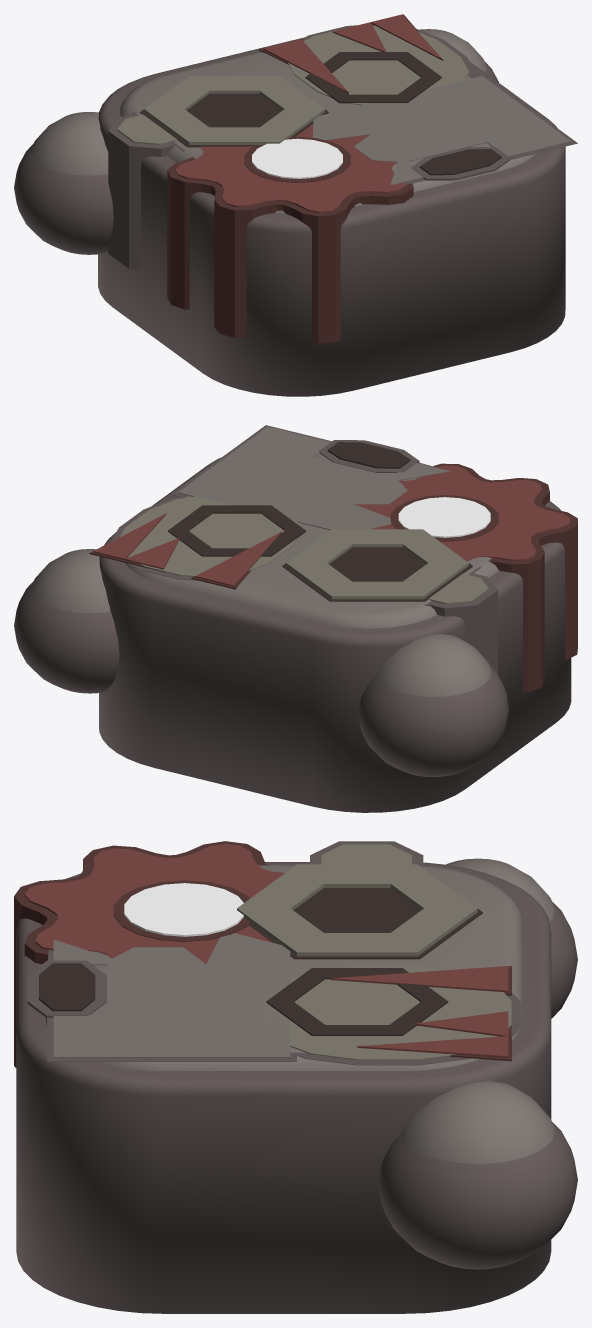
The model's file is body_engrenagem.fbx.
3 renders of one model, top to bottom at view 1: azimuth 30°, elevation 25°; view 2: azimuth 150°, elevation 25°; view 3: azimuth 270°, elevation 25°, orthographic. The views are drawn at different scales.
Parts seen in each view (by area): view 1: body_engrenagem_corpo, body_engrenagem_mao_esq, body_engrenagem_mao; view 2: body_engrenagem_corpo, body_engrenagem_mao_esq, body_engrenagem_mao; view 3: body_engrenagem_corpo, body_engrenagem_mao, body_engrenagem_mao_esq.
Boxes of the visible parts, <box> form: body_engrenagem_corpo: <box>98,14,577,396</box>; body_engrenagem_mao_esq: <box>14,112,113,254</box>; body_engrenagem_mao: <box>419,29,498,82</box>; body_engrenagem_corpo: <box>89,425,577,812</box>; body_engrenagem_mao_esq: <box>358,634,508,777</box>; body_engrenagem_mao: <box>14,549,119,693</box>; body_engrenagem_corpo: <box>14,841,551,1313</box>; body_engrenagem_mao: <box>378,1081,577,1269</box>; body_engrenagem_mao_esq: <box>446,858,577,1018</box>.
Size of the model in its own units: 5.4 by 2.04 by 4.22.
1 material, 1 textured.
